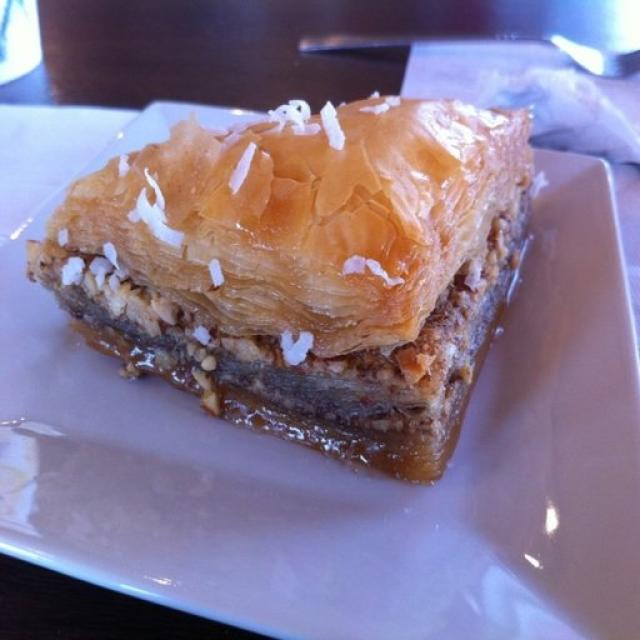Baklawa: (25, 71, 586, 491)
